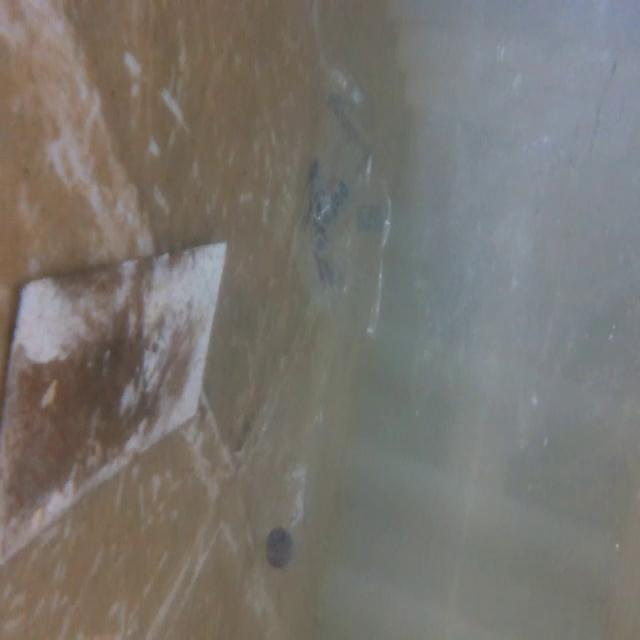metal: (0, 220, 236, 549)
plastic bags: (423, 0, 640, 444), (294, 84, 397, 336)
plastic bottle: (248, 356, 351, 594)
